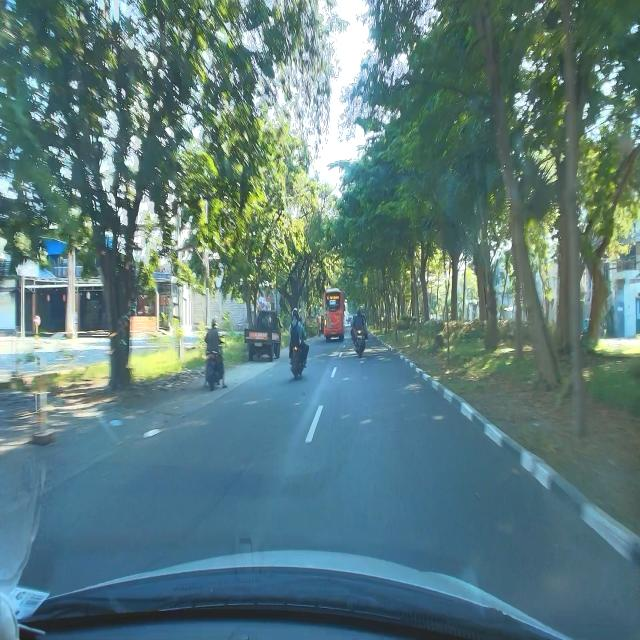bus: (323, 287, 345, 342)
truck: (244, 308, 282, 363)
